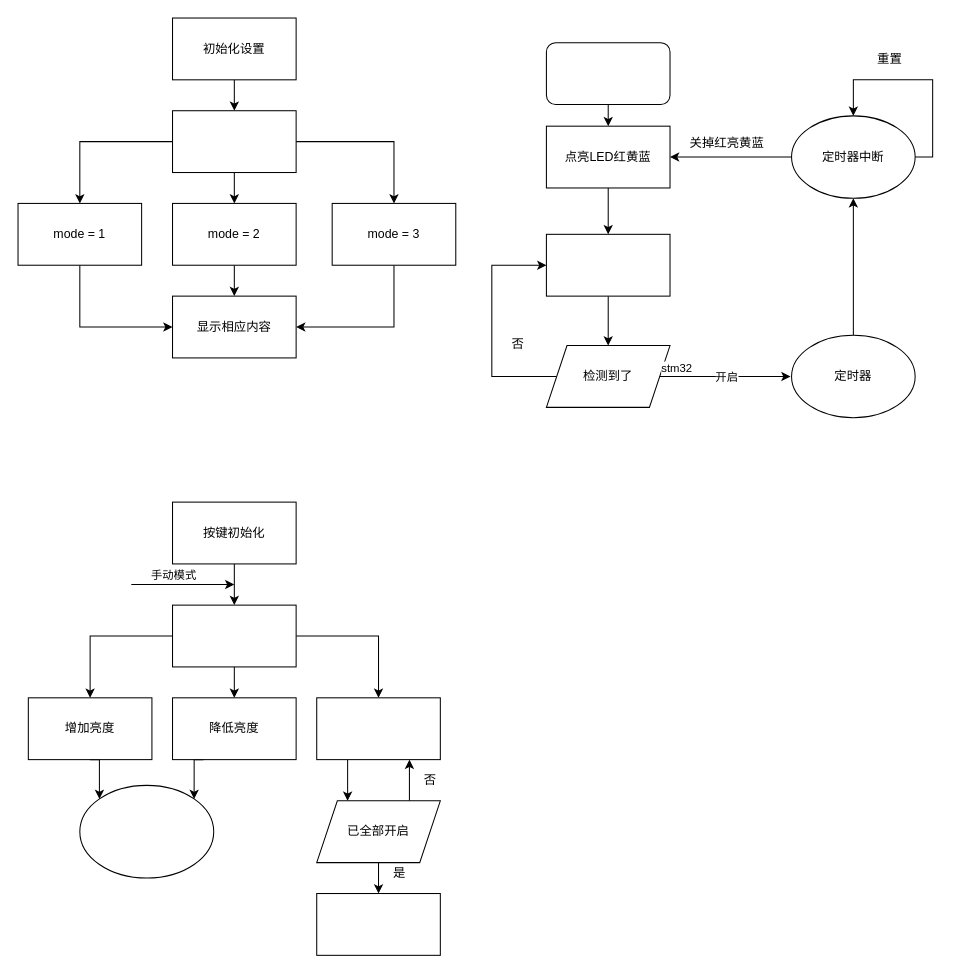
Some shapes in this 959 by 973 pixel diagram are drawn without their labels. Each missing label, with the centre of its shape:
"关闭备用光源" belongs at point 378,923.
"图像检测" belongs at point 607,264.
"定时器配置 500ms一次中断" belongs at point 607,73.
"开启备用光源" belongs at point 378,728.
"引脚输出对应电压" belongs at point 146,831.
"按键检测并消抖" belongs at point 233,635.
"模式判断" belongs at point 233,141.
